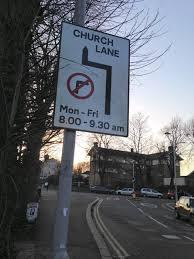no_right_turn: (66, 72, 93, 98)
